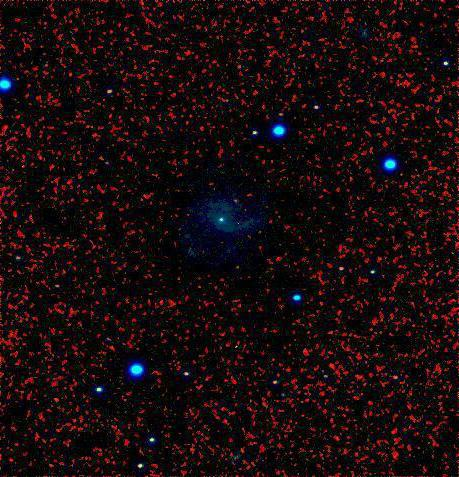star: (222, 183, 252, 213)
